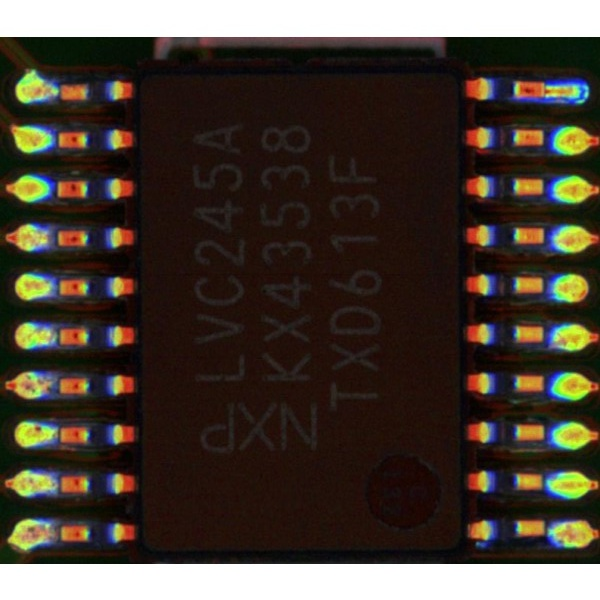Bad_podu: (533, 84, 560, 95)
